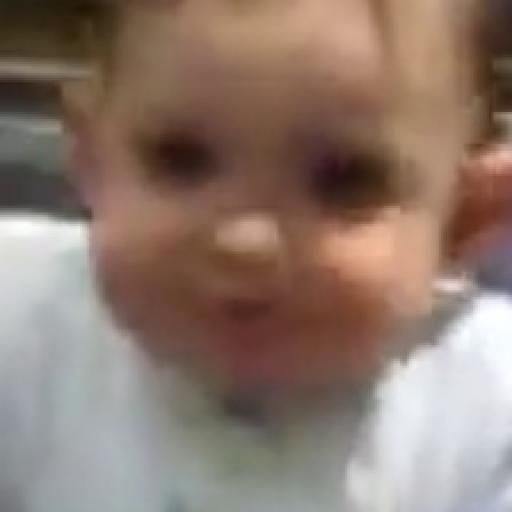Autism: (102, 17, 508, 424)
